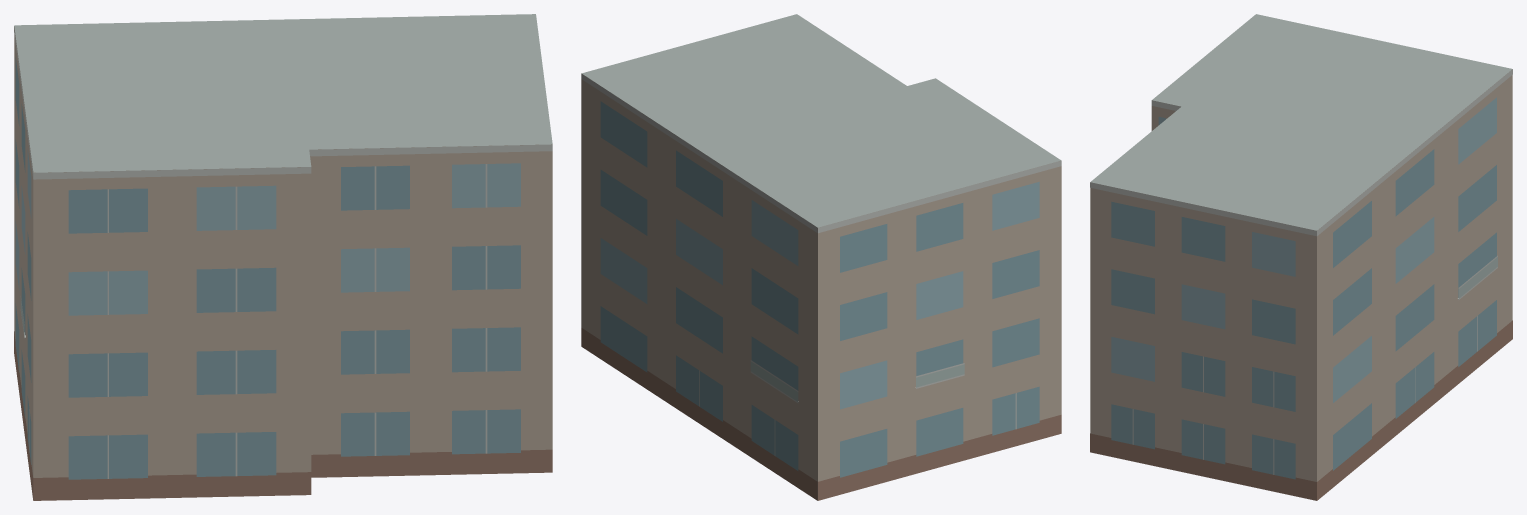
The model's file is survey-upis-32885224.glb.
3 views of the same model, side by side, from view 1: azimuth 30°, elevation 25°; view 2: azimuth 150°, elevation 25°; view 3: azimuth 270°, elevation 25° (orthographic). The views are drawn at different scales.
Visible parts, largest first — view 1: survey-upis-32885224.tmp; view 2: survey-upis-32885224.tmp; view 3: survey-upis-32885224.tmp.
Boxes of the visible parts, box(x1,y1,x2,y2) form: survey-upis-32885224.tmp: box(14, 14, 552, 500); survey-upis-32885224.tmp: box(581, 14, 1061, 500); survey-upis-32885224.tmp: box(1090, 14, 1512, 500).
Bounding box in the file's own units: 20.32 × 11.8 × 16.74.
